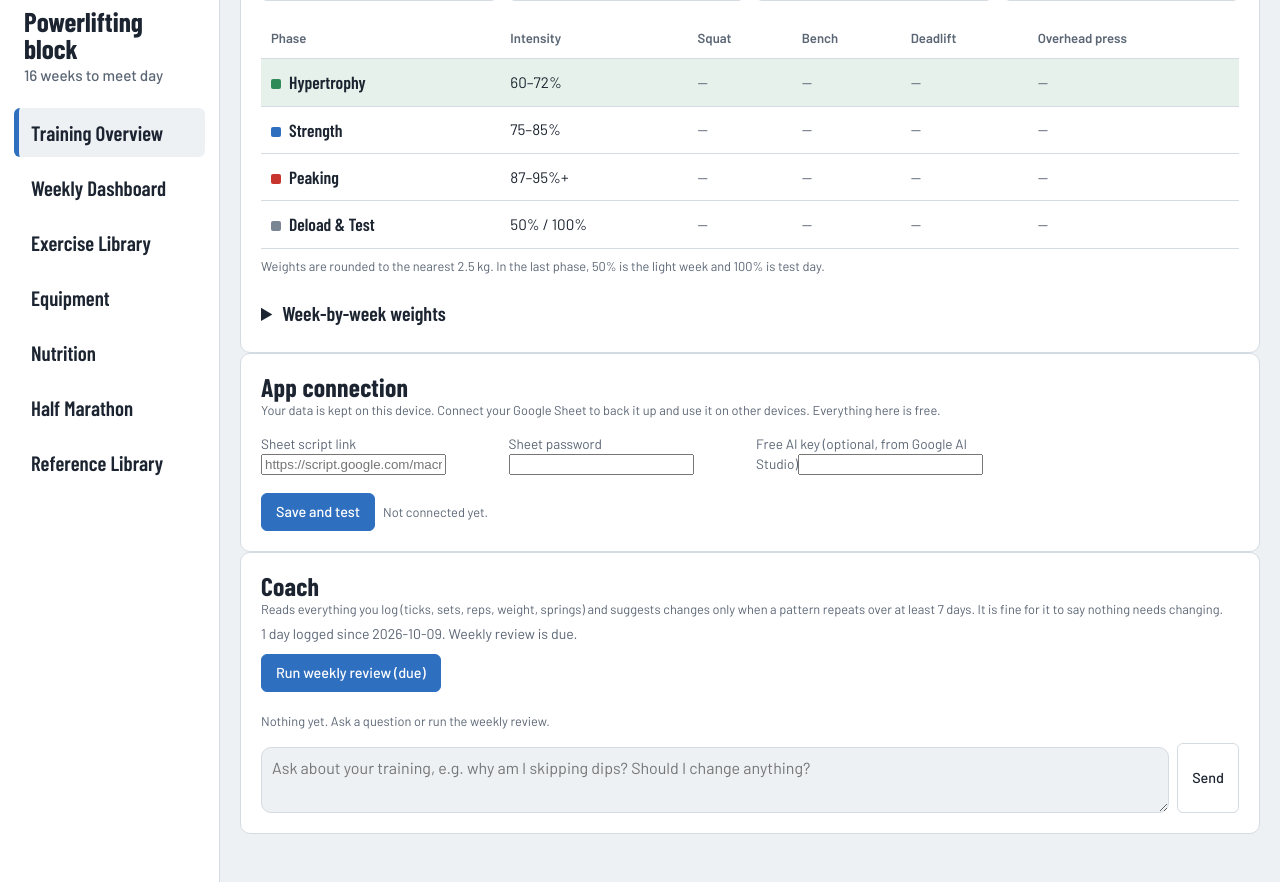
Test case: overview, coach and connection › coach copies a prompt when there is no AI key, and replies and applies a change with one
The width and height of the screenshot is (1280, 882).
(page scrolled)
Expected: the text with id "coachstat" shows "Weekly review is due", [261,625,577,642]
Click the button with id "coachreview" at [351, 673], box [261,654,441,692]
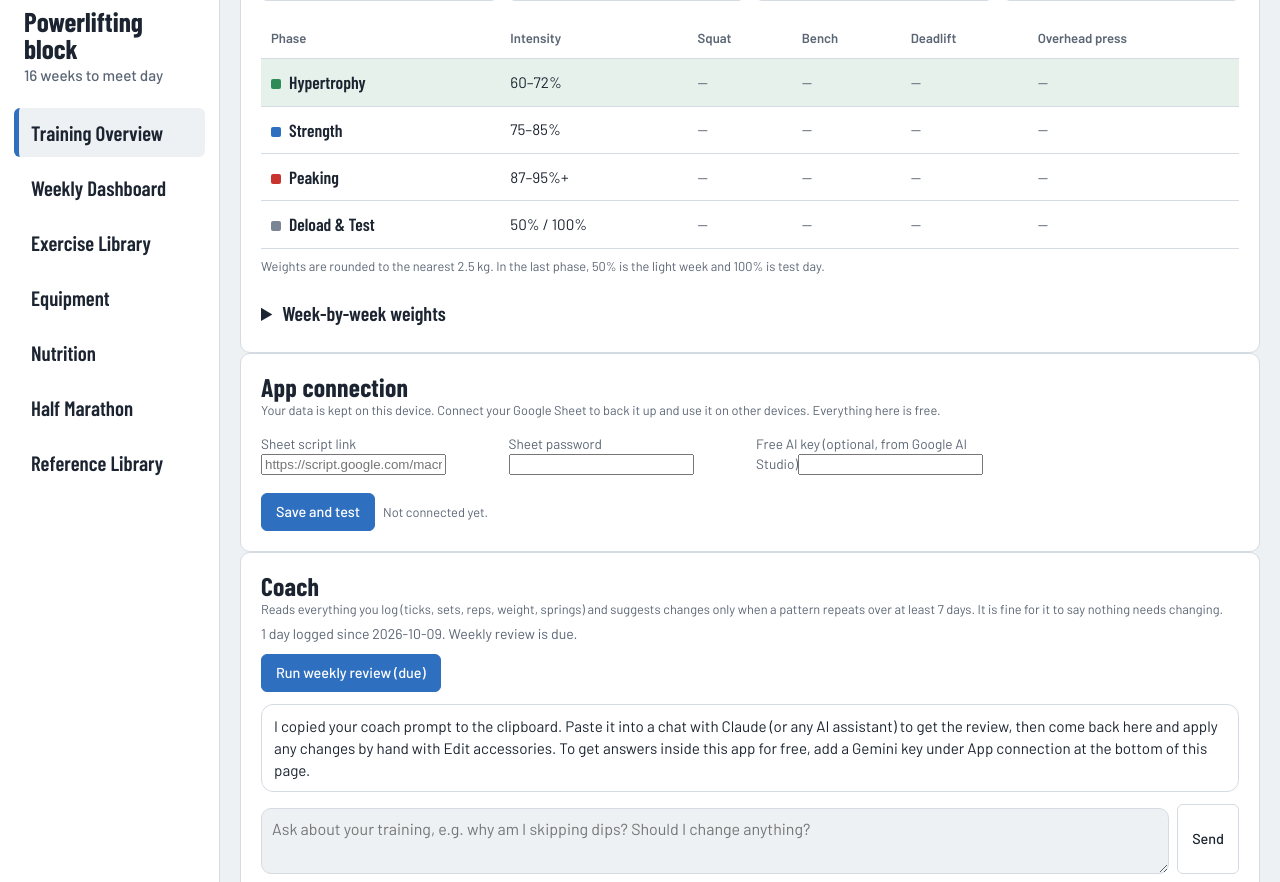
Expected: the element with id "coachlog" shows "copied your coach prompt", [274,717,1221,779]
Click the button with id "coachreview" at [351, 673], box [261,654,441,692]
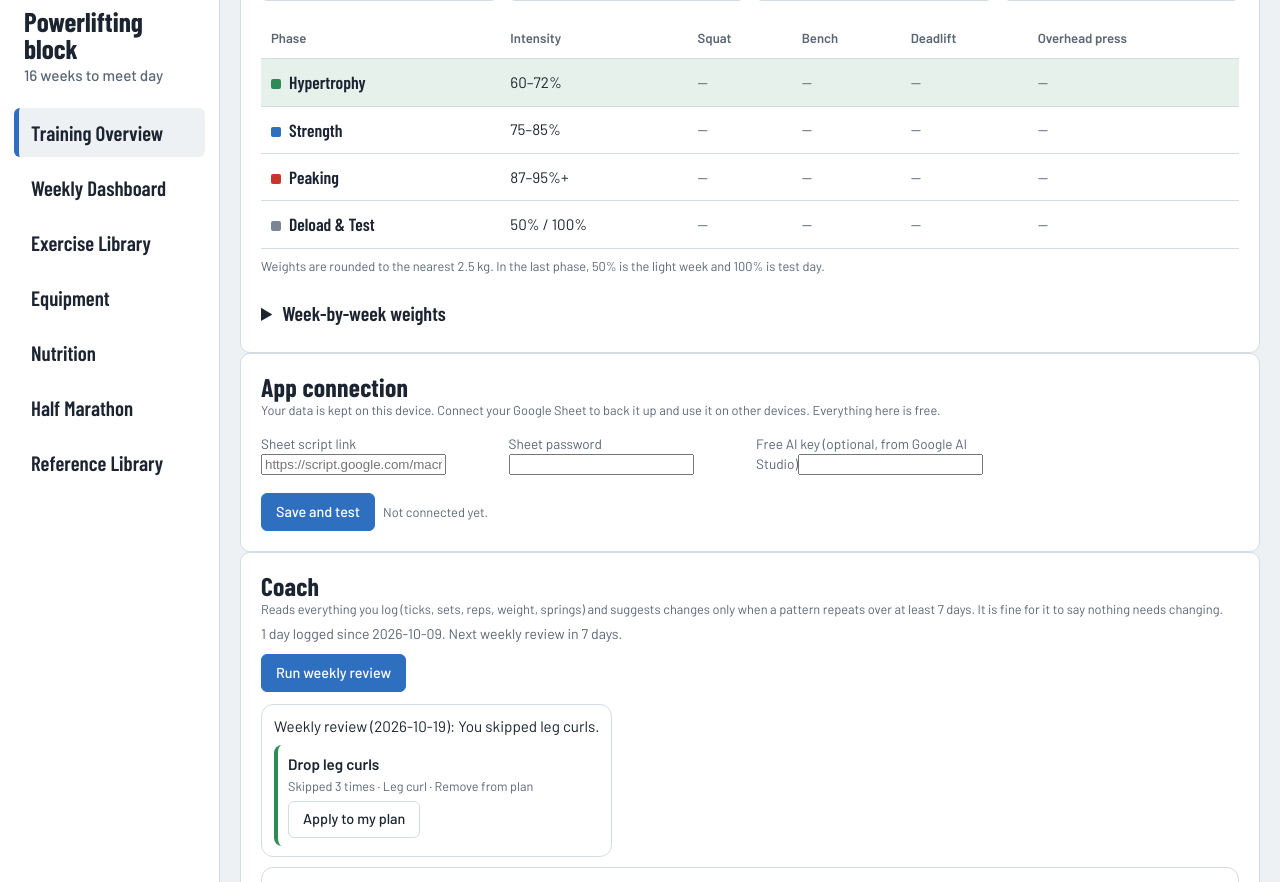
Expected: the element with id "coachlog" shows "You skipped leg curls.", [274,717,600,735]
Click the button "Apply to my plan" at [354, 820], box [288,801,420,838]
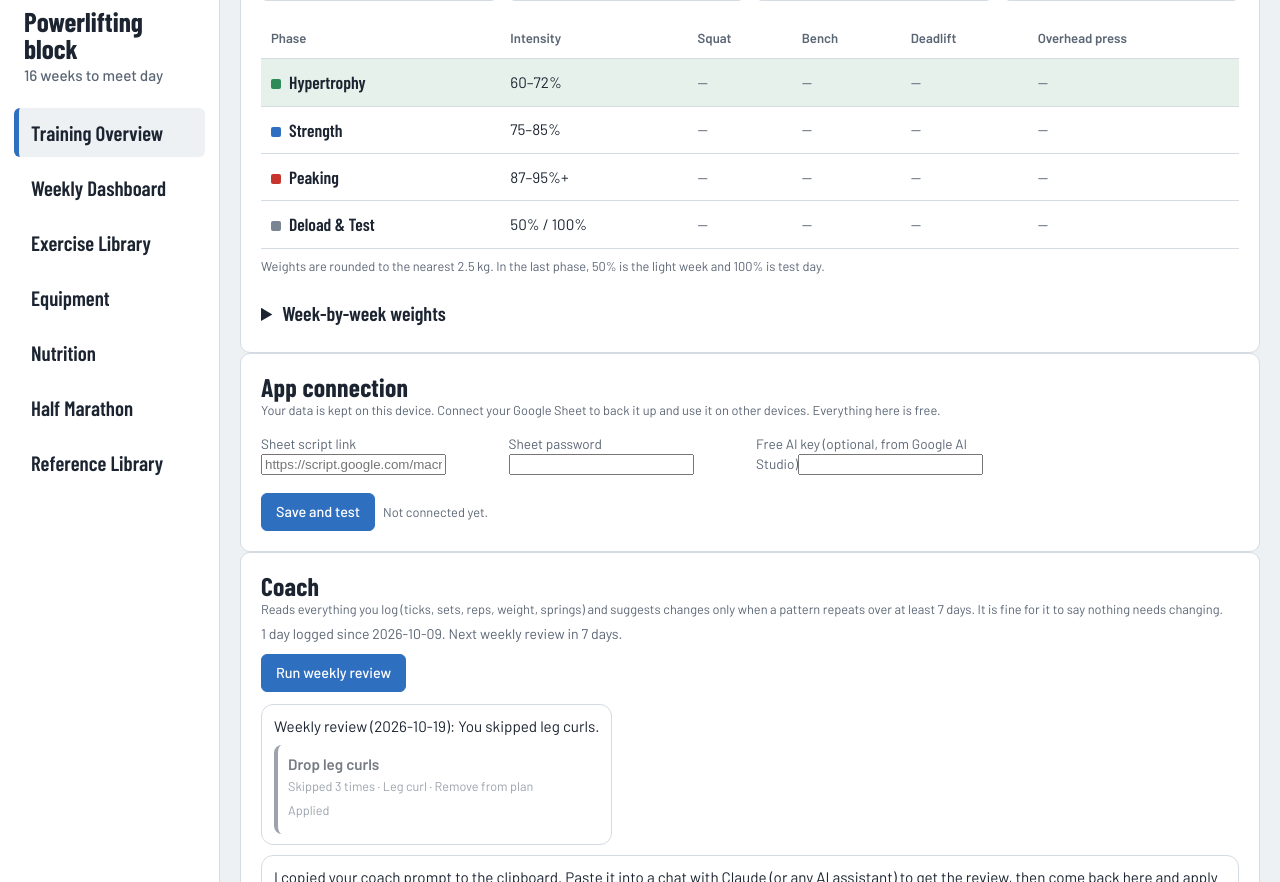
Expected: the text "Applied" is shown, [288,802,330,818]
